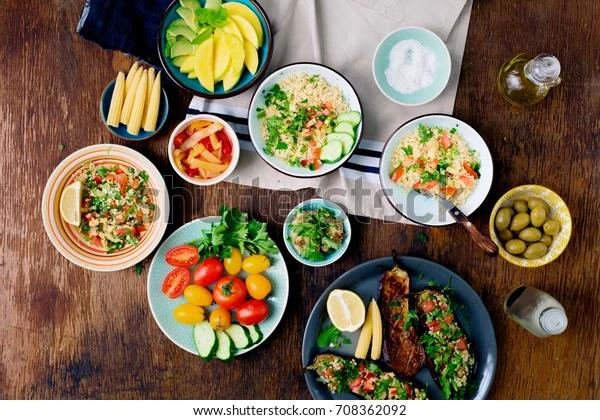Braised Crucian Carp: (302, 256, 496, 400), (146, 215, 288, 356), (41, 143, 167, 270), (247, 62, 361, 178), (377, 114, 492, 224), (155, 0, 271, 100)
